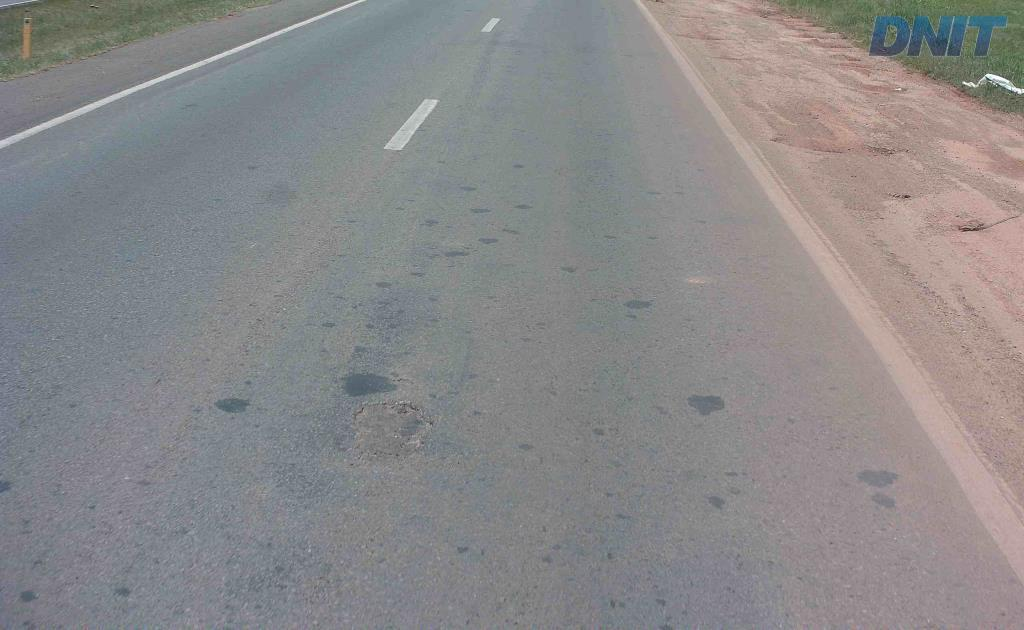pothole: (341, 394, 435, 463)
